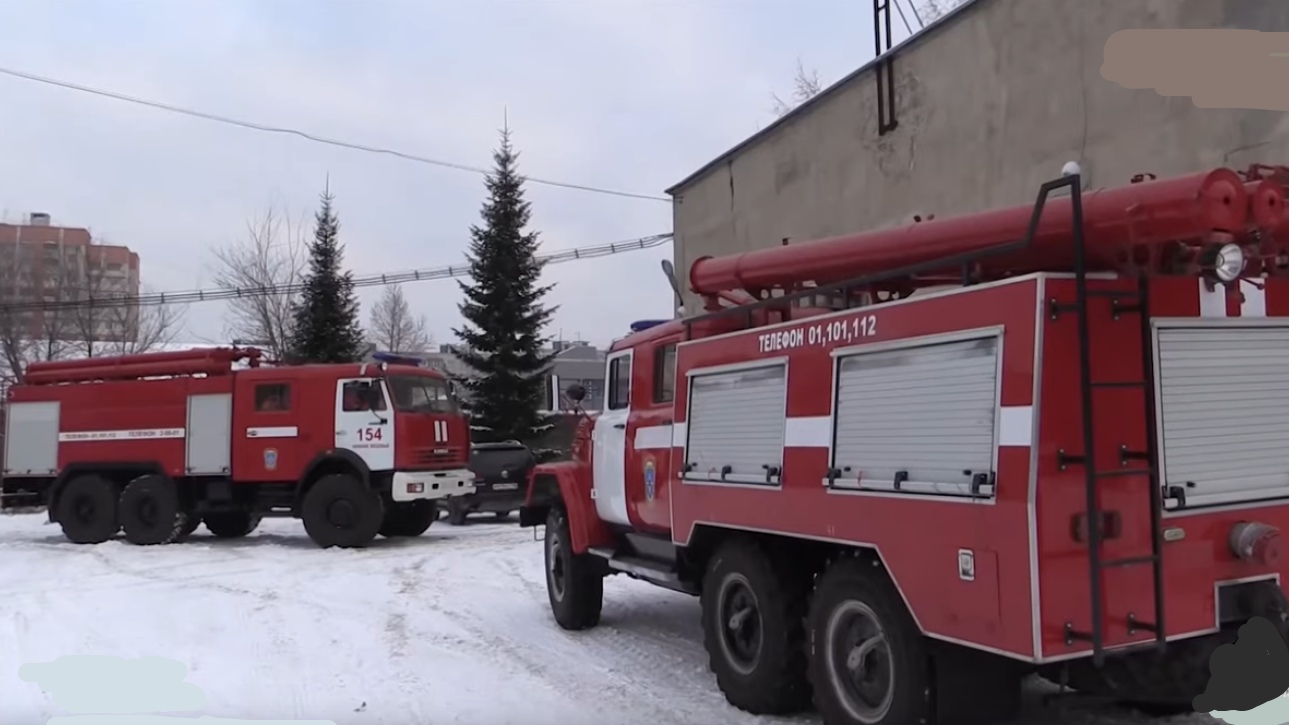fire fighting vehicle: (542, 166, 1289, 725), (3, 344, 475, 548)
non emergency car: (461, 436, 539, 523)
